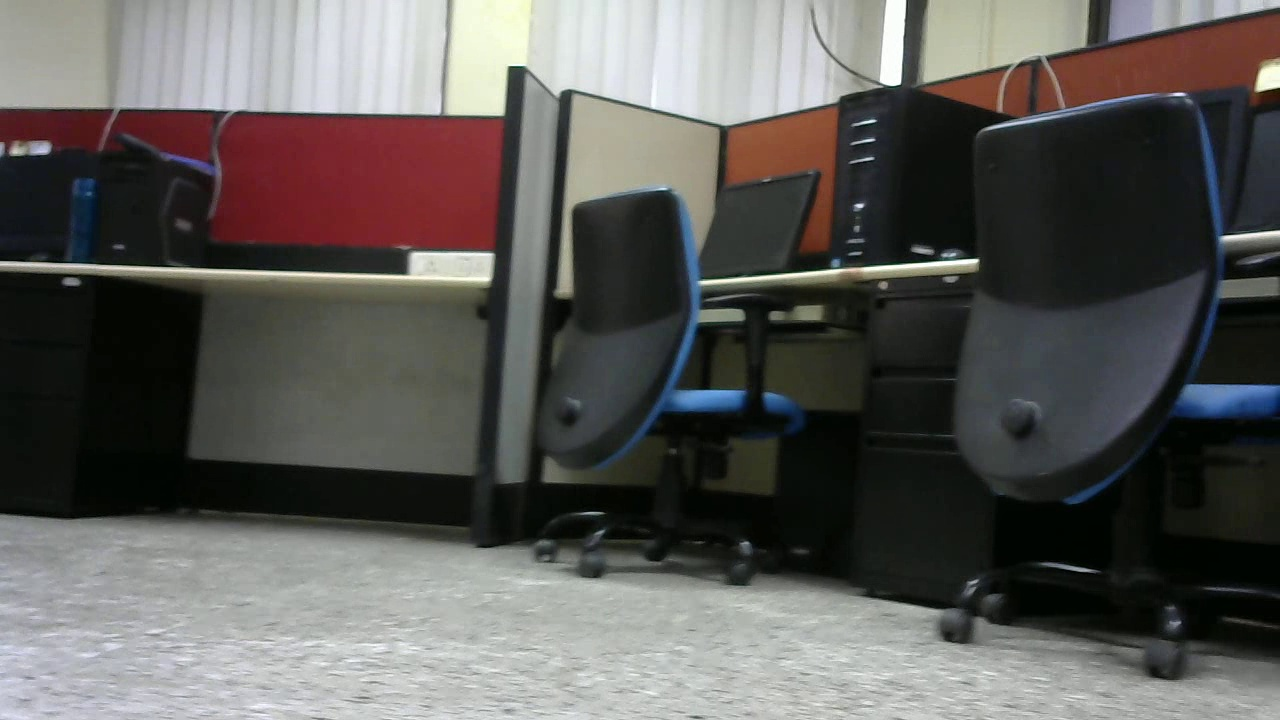chair: (949, 87, 1280, 682), (529, 181, 813, 584)
